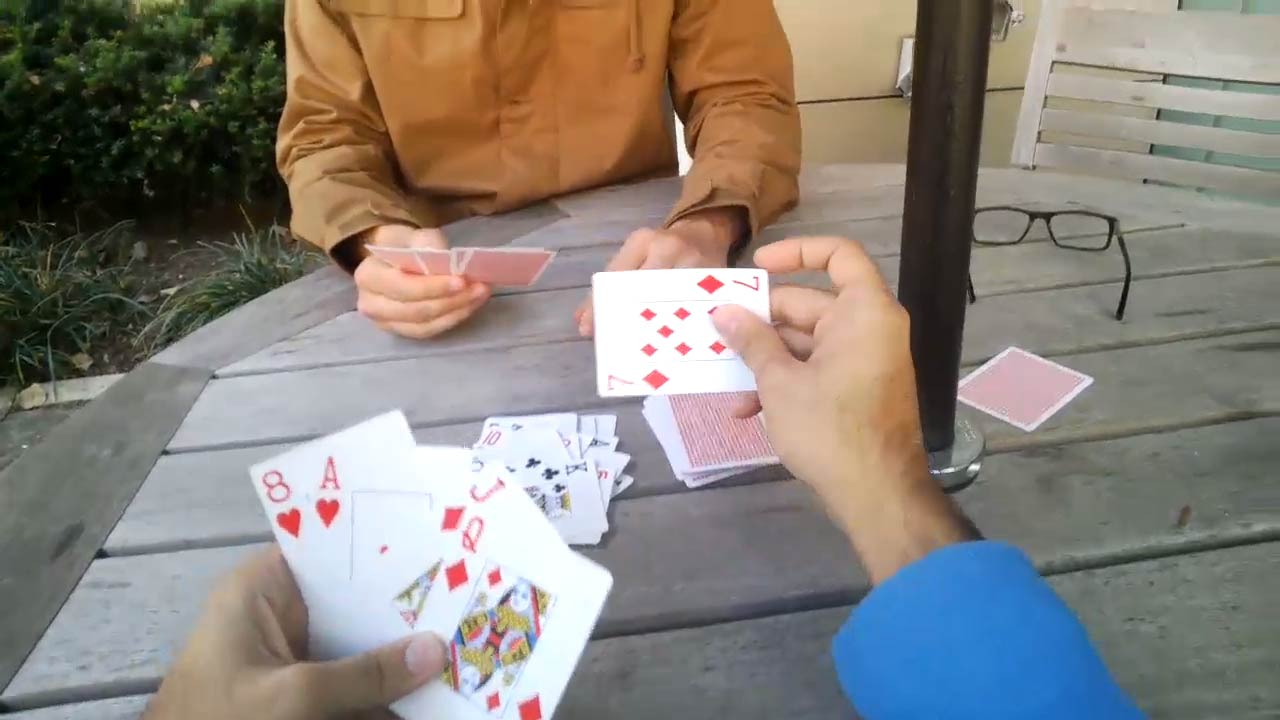hand: (712, 235, 930, 529), (153, 544, 452, 718), (577, 221, 730, 335), (352, 227, 492, 340)
